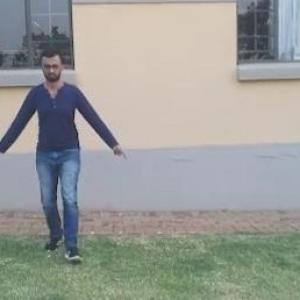land: (0, 44, 126, 263)
